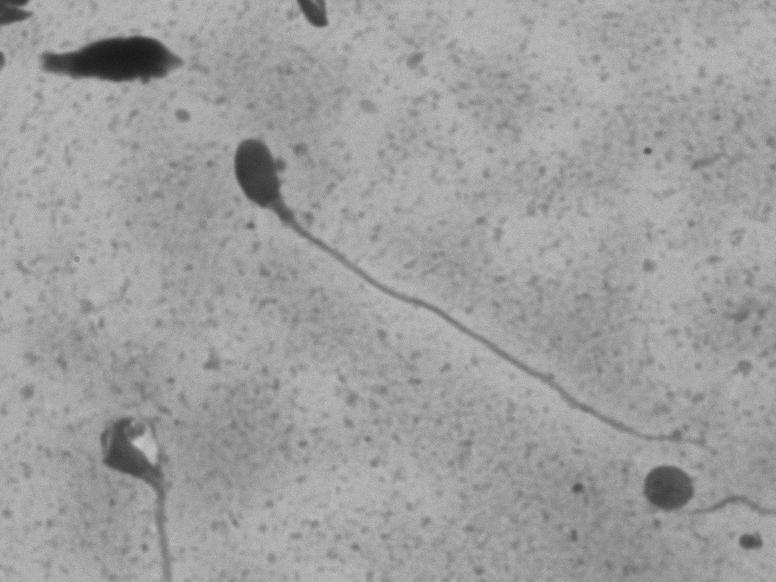Abnormal: (181, 109, 723, 458)
